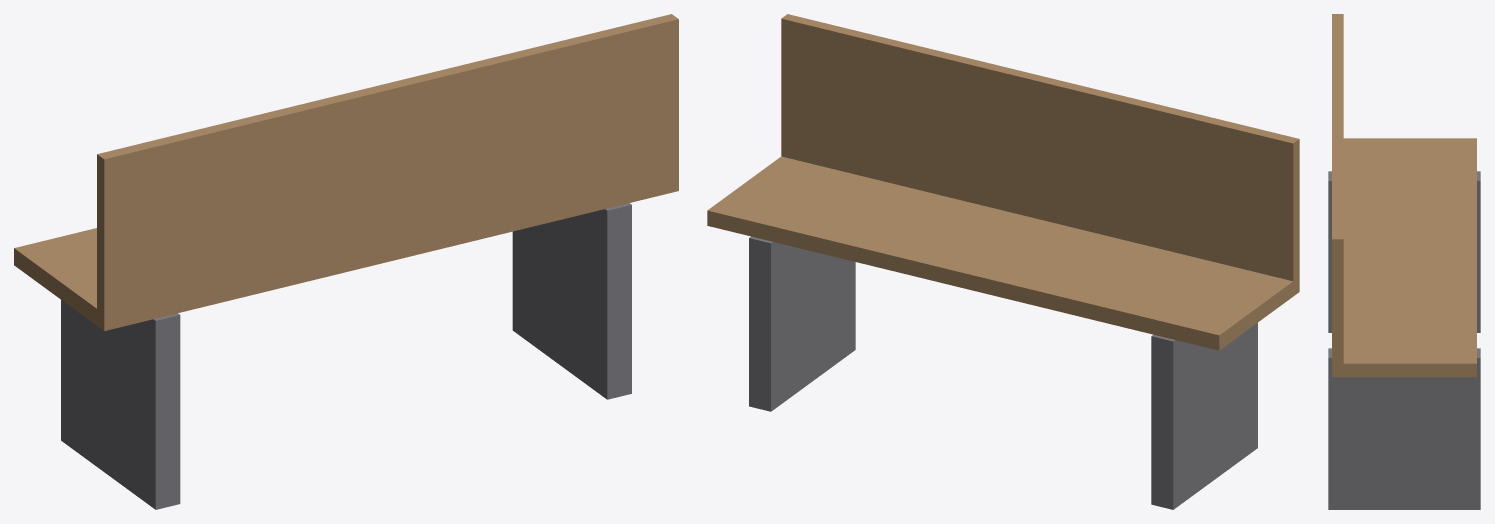
Rendered from bench.glb.
The picture shows the model from 3 angles, left to right: view 1: azimuth 30°, elevation 25°; view 2: azimuth 150°, elevation 25°; view 3: azimuth 270°, elevation 25°; orthographic projection. The views are drawn at different scales.
Visible parts, largest first — view 1: Bench; view 2: Bench; view 3: Bench.
Part boxes in pixels (bbox=[...]): Bench: bbox=[14, 14, 678, 509]; Bench: bbox=[707, 14, 1299, 509]; Bench: bbox=[1328, 14, 1480, 509].
Bounding box in the file's own units: 1.4 × 0.84 × 0.4.
